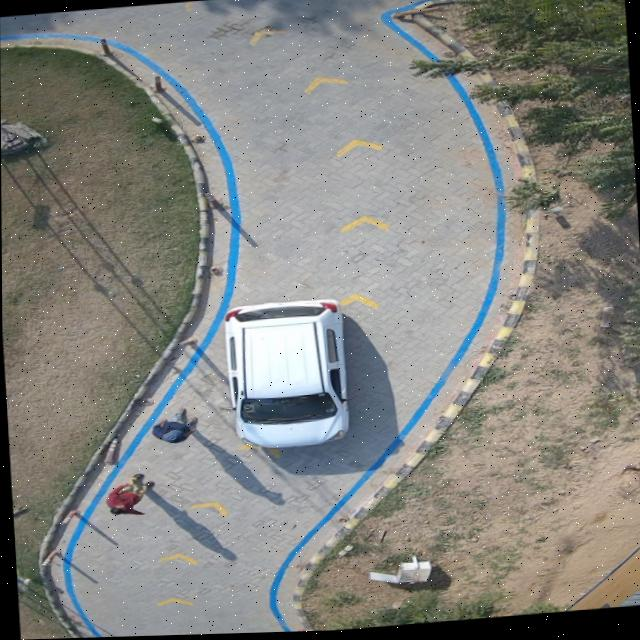car: (225, 300, 349, 448)
